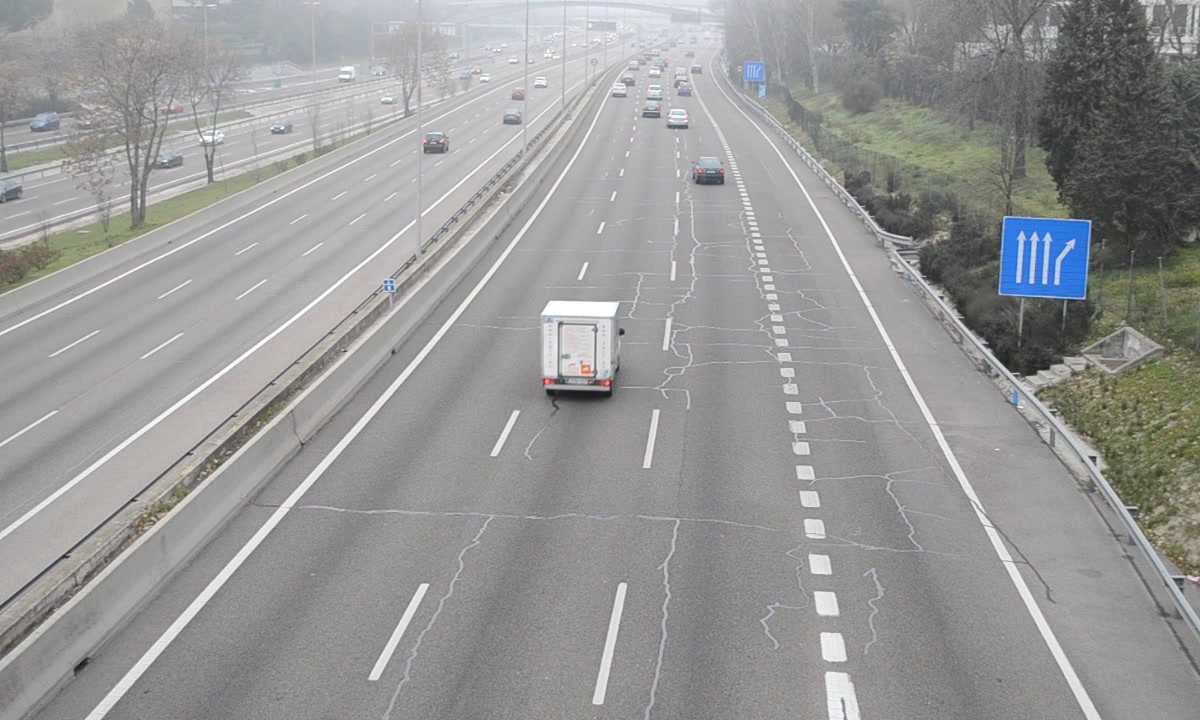car: (691, 155, 727, 187)
small-truck: (540, 302, 624, 395)
